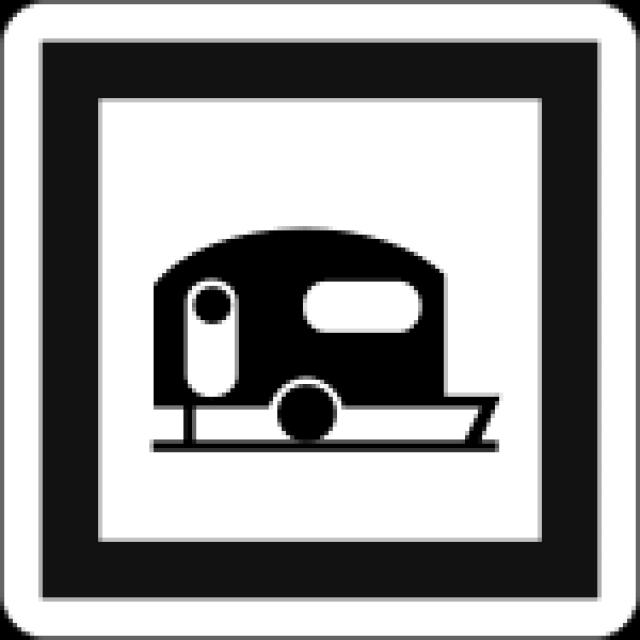indication: (4, 4, 640, 640)
